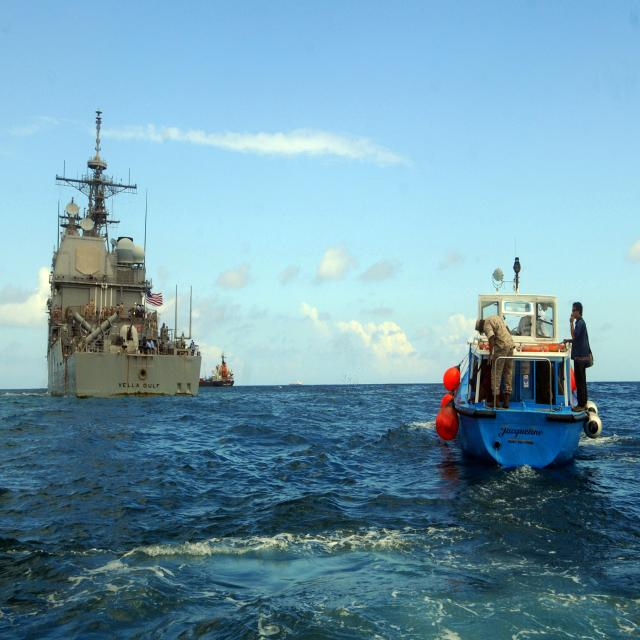fishing boat: (448, 246, 612, 478)
navalvessels: (37, 108, 190, 414)
